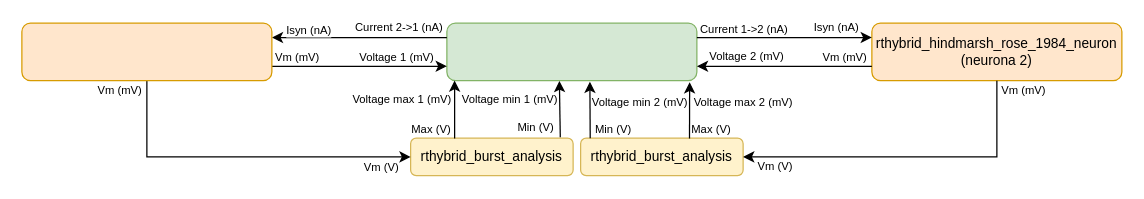
Some shapes in this 1144 by 199 pixel diagram are drawn without their labels. The shapes that lost their labels are listed below. From the top down, each one's box as (x1, y1, x2, y2) in pixels, then its label:
(21, 22, 272, 81): rthybrid_hindmarsh_rose_1984_neuron (neurona 1)
(446, 22, 697, 81): bidirectional_chemical_synapse_BO
